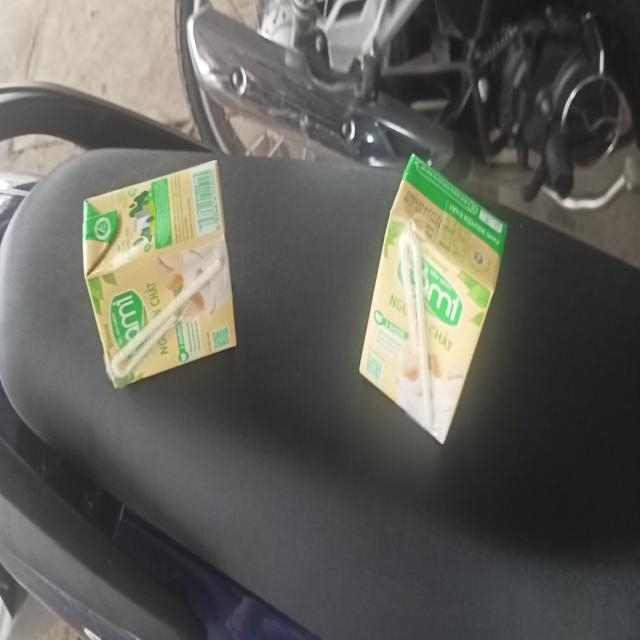Fami: (359, 155, 511, 446), (83, 160, 235, 391)
